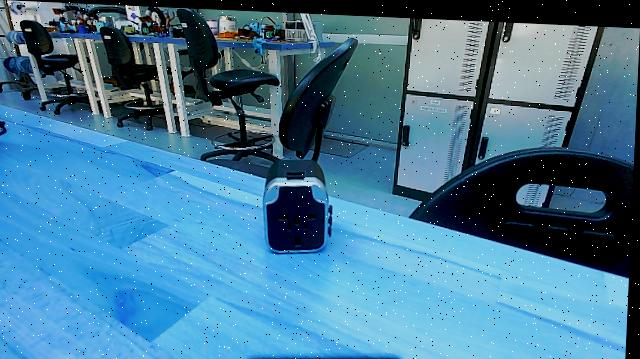adapter: (258, 149, 340, 271)
